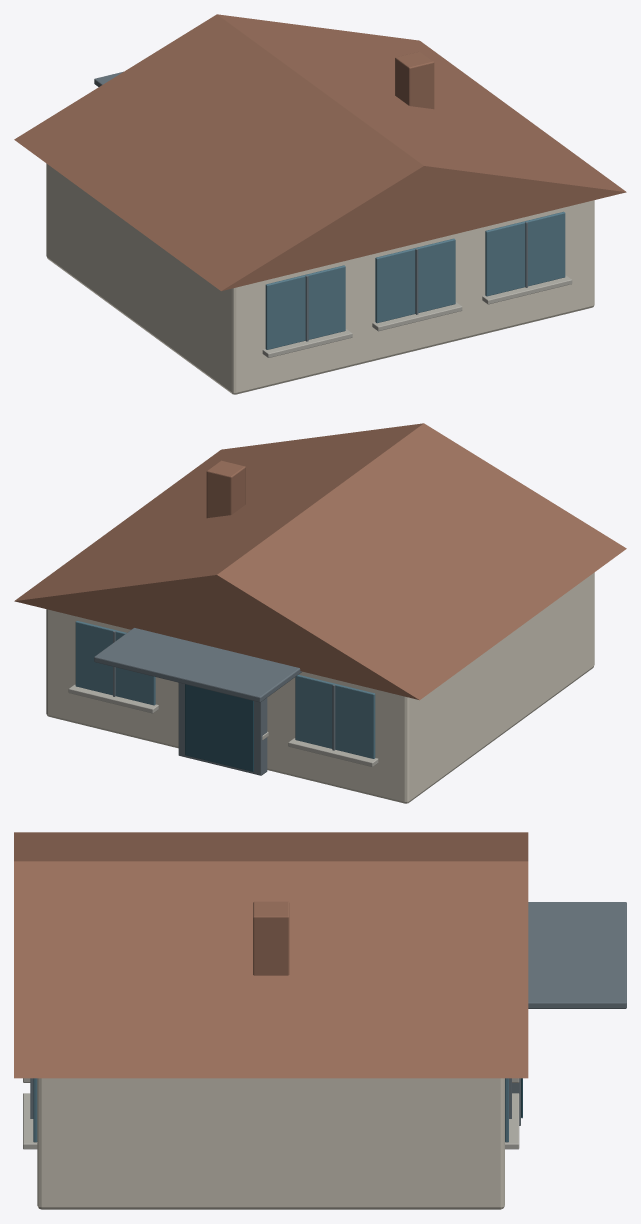
Rendered from House.fbx.
The picture shows the model from 3 angles, top to bottom: view 1: azimuth 30°, elevation 25°; view 2: azimuth 150°, elevation 25°; view 3: azimuth 270°, elevation 25°; orthographic projection. The views are drawn at different scales.
Parts seen in each view (by area): view 1: Body.035; view 2: Body.035; view 3: Body.035.
Part boxes in pixels (x1,y1,x2,y2): Body.035: (14, 14, 626, 394); Body.035: (14, 423, 626, 803); Body.035: (14, 832, 626, 1209).
Bounding box in the file's own units: 11.2 × 5.3 × 11.8.
